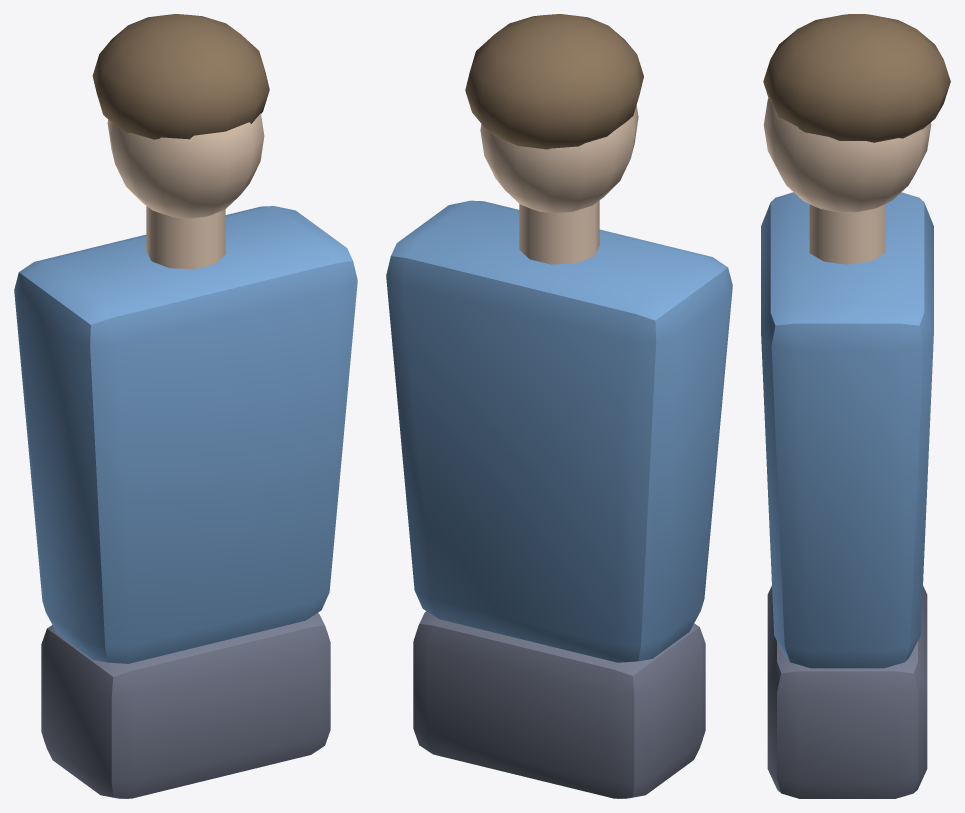
File: person_torso.glb
The picture shows the model from 3 angles, left to right: view 1: azimuth 30°, elevation 25°; view 2: azimuth 150°, elevation 25°; view 3: azimuth 270°, elevation 25°; orthographic projection.
Parts seen in each view (by area): view 1: person_torso; view 2: person_torso; view 3: person_torso.
Part boxes in pixels (x1,y1,x2,y2): person_torso: (14, 14, 357, 798); person_torso: (386, 14, 732, 798); person_torso: (761, 14, 950, 798).
Size of the model in its own units: 0.4135 by 1.01 by 0.2379.
